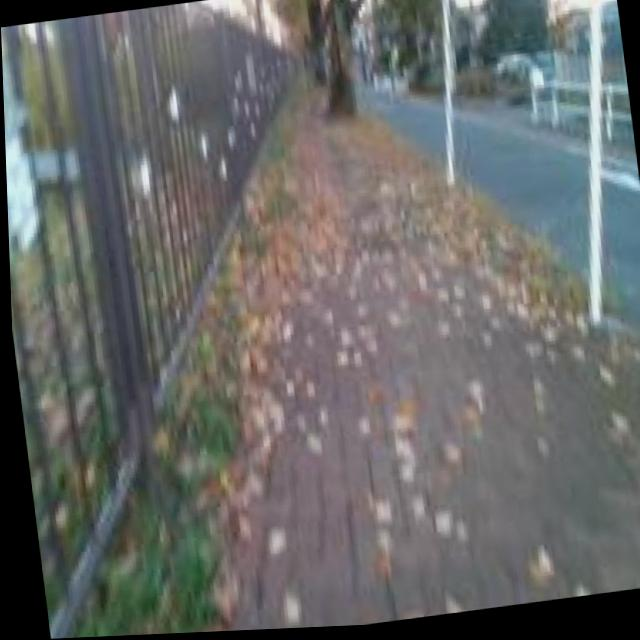Obstacle: (586, 11, 600, 328), (326, 0, 363, 116), (438, 0, 453, 189)
Road: (452, 115, 586, 278), (600, 186, 640, 340), (364, 91, 443, 159)
Sidewalk: (210, 105, 640, 633)
